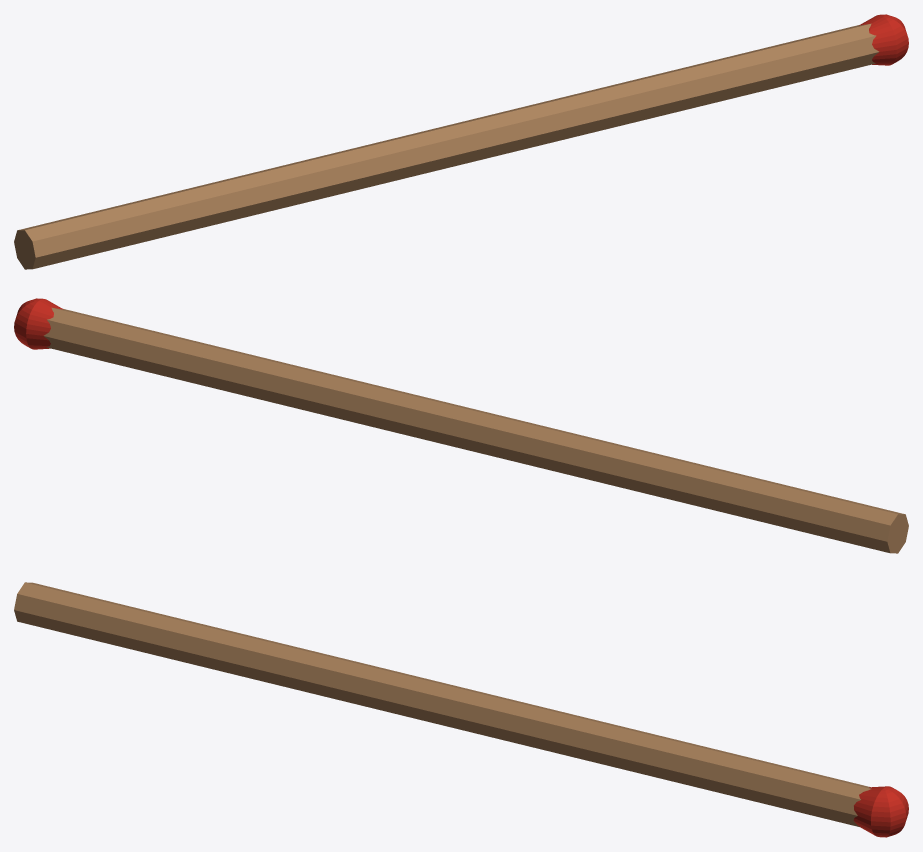
Rendered from Lucifer.fbx.
3 views of the same model, one above another, from view 1: azimuth 30°, elevation 25°; view 2: azimuth 150°, elevation 25°; view 3: azimuth 330°, elevation 25° (orthographic).
Parts seen in each view (by area): view 1: Lucifer; view 2: Lucifer; view 3: Lucifer.
Boxes of the visible parts, x1,y1,x2,y2 form: Lucifer: [14, 14, 908, 269]; Lucifer: [14, 298, 908, 553]; Lucifer: [14, 582, 908, 837].
Bounding box in the file's own units: 14.09 × 0.7198 × 0.7198.
